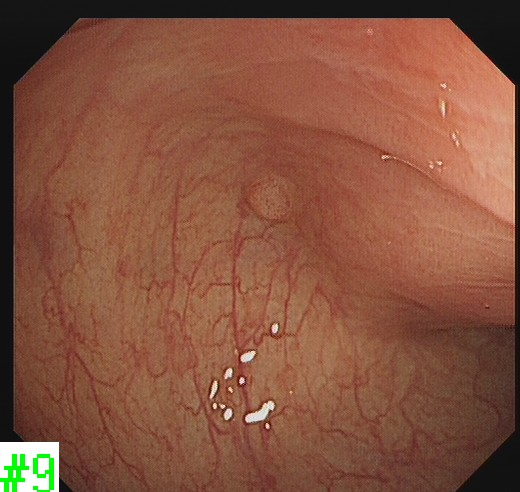adenoma: (239, 172, 300, 223)
